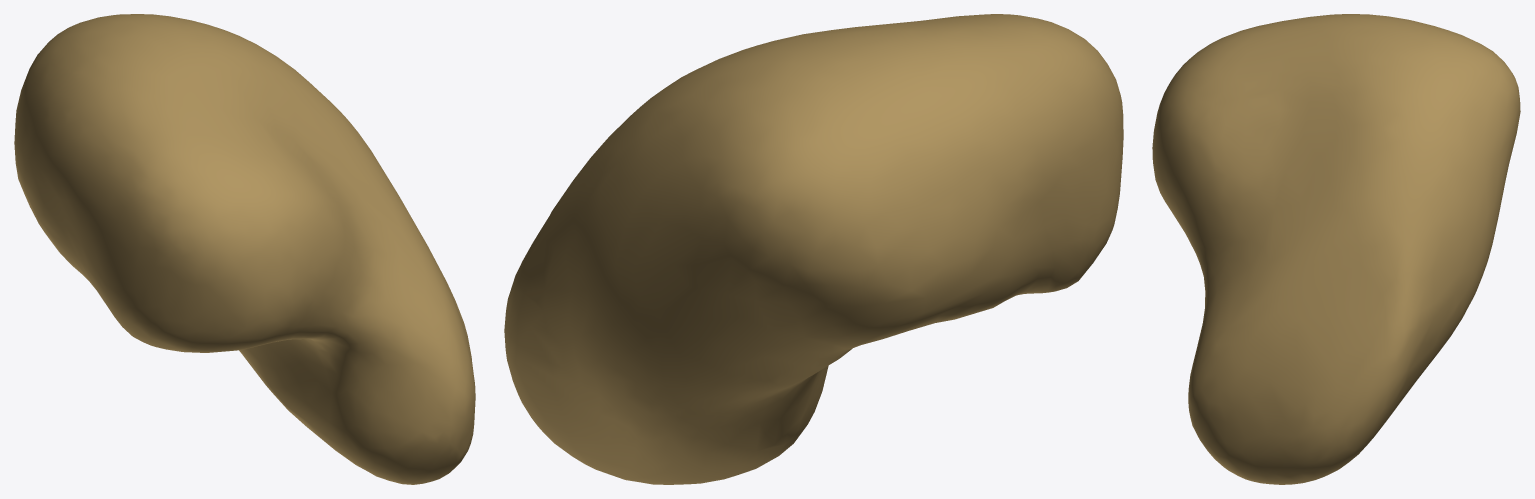
3 renders of one model, left to right at view 1: azimuth 30°, elevation 25°; view 2: azimuth 150°, elevation 25°; view 3: azimuth 270°, elevation 25°, orthographic. The views are drawn at different scales.
Parts seen in each view (by area): view 1: 左侧小脑扁桃体; view 2: 左侧小脑扁桃体; view 3: 左侧小脑扁桃体.
Part boxes in pixels (box(x1,y1,x2,y2)): 左侧小脑扁桃体: box(14, 14, 475, 484); 左侧小脑扁桃体: box(504, 14, 1123, 484); 左侧小脑扁桃体: box(1152, 14, 1520, 484).
Size of the model in its own units: 0.0321 by 0.033 by 0.0301.
